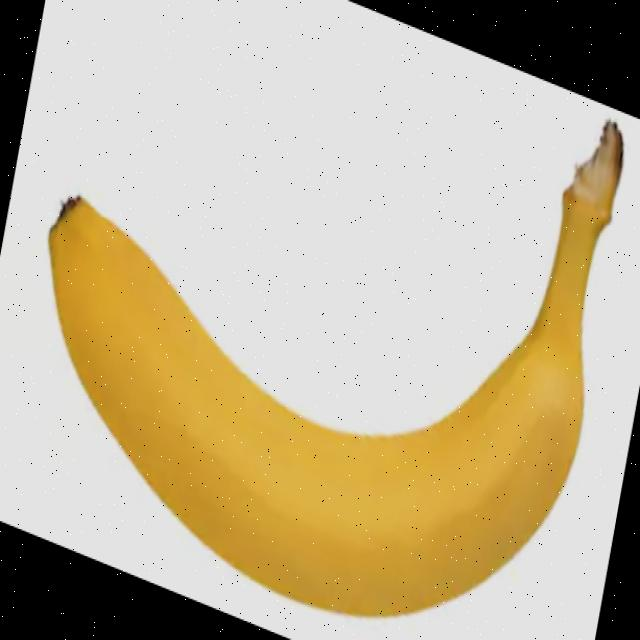god quality banana: (48, 124, 623, 617)
